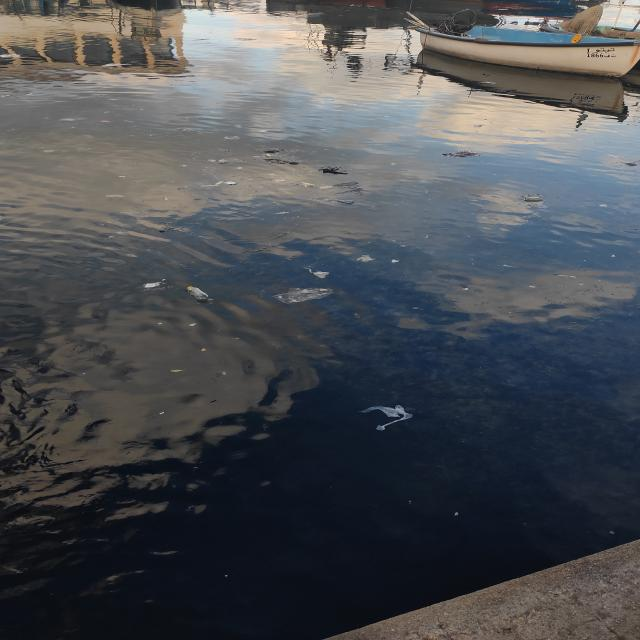Plastic Bag: (356, 405, 416, 431), (270, 286, 336, 305), (332, 181, 366, 197), (156, 221, 190, 234), (439, 150, 486, 158), (317, 165, 350, 175), (253, 159, 301, 165), (216, 157, 248, 164), (254, 148, 288, 154), (256, 153, 290, 158), (487, 88, 518, 93), (142, 281, 164, 288), (101, 62, 132, 66), (114, 230, 132, 236), (233, 37, 257, 41), (0, 54, 23, 58), (58, 118, 88, 121), (104, 194, 126, 198), (319, 185, 334, 190), (472, 124, 486, 128), (481, 81, 497, 84), (124, 119, 136, 123), (527, 284, 539, 288), (501, 264, 516, 267), (119, 211, 134, 214), (482, 73, 490, 77), (160, 197, 170, 200)
Plastic Bottle: (186, 286, 210, 300), (333, 199, 355, 204)
Plastic Waste: (354, 254, 377, 263), (301, 266, 323, 273), (300, 182, 316, 188), (224, 136, 242, 140), (274, 211, 290, 215), (223, 181, 238, 185), (271, 179, 287, 182), (391, 259, 400, 263), (100, 120, 111, 123), (206, 159, 216, 162), (258, 130, 268, 132), (253, 156, 261, 158), (236, 167, 244, 169), (462, 288, 469, 290), (182, 165, 187, 167), (300, 196, 306, 197)
Plastic cup: (313, 271, 331, 279), (26, 93, 34, 95)
